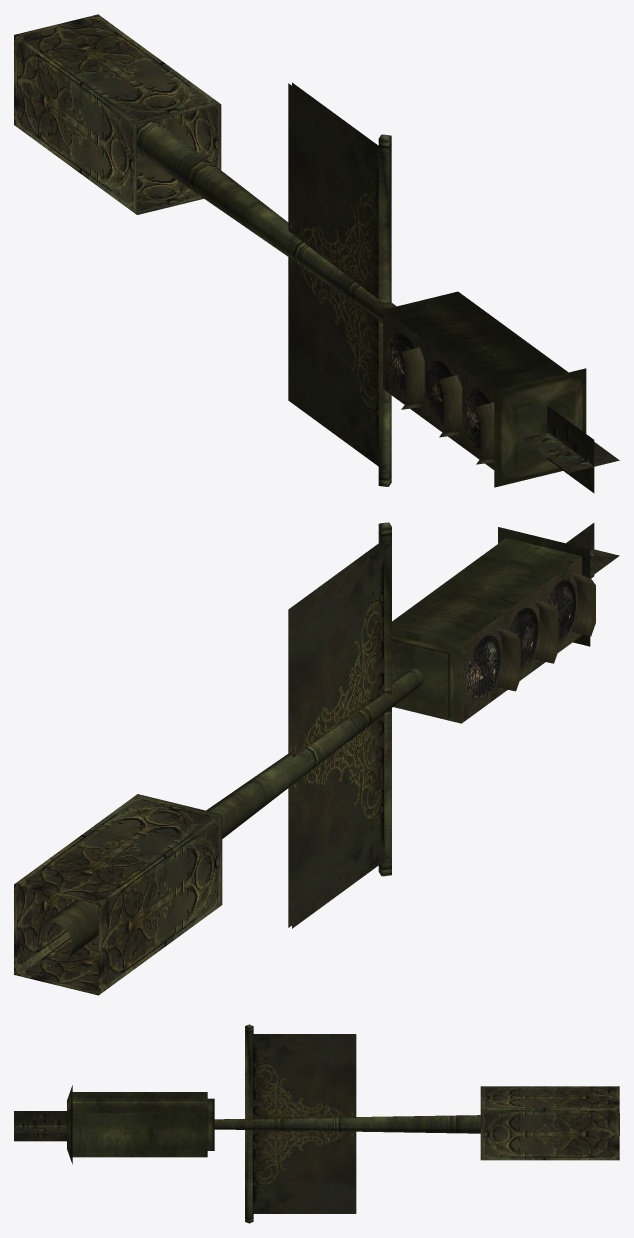
File: prop_stoplight.glb
3 renders of one model, top to bottom at view 1: azimuth 30°, elevation 25°; view 2: azimuth 150°, elevation 25°; view 3: azimuth 270°, elevation 25°, orthographic. The views are drawn at different scales.
Size of the model in its own units: 16.39 by 54.19 by 150.
Materials: 1 (1 with a texture image).
